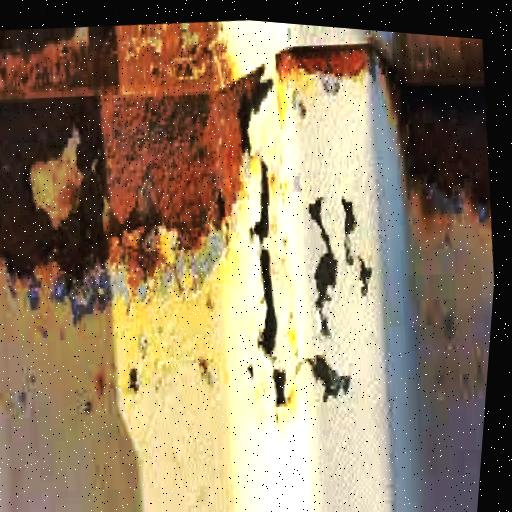corrosion: (0, 1, 298, 313), (365, 31, 505, 245), (268, 22, 382, 92)
